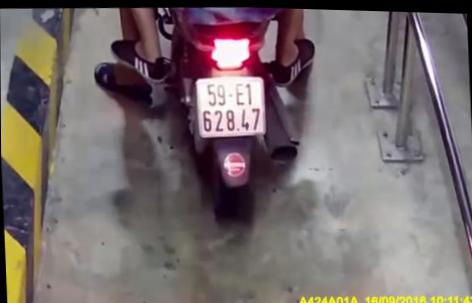LP: (195, 73, 268, 139)
